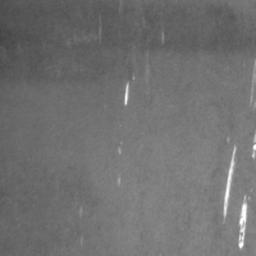Bright scratch: (224, 146, 238, 218), (238, 204, 248, 248), (124, 82, 131, 105)
